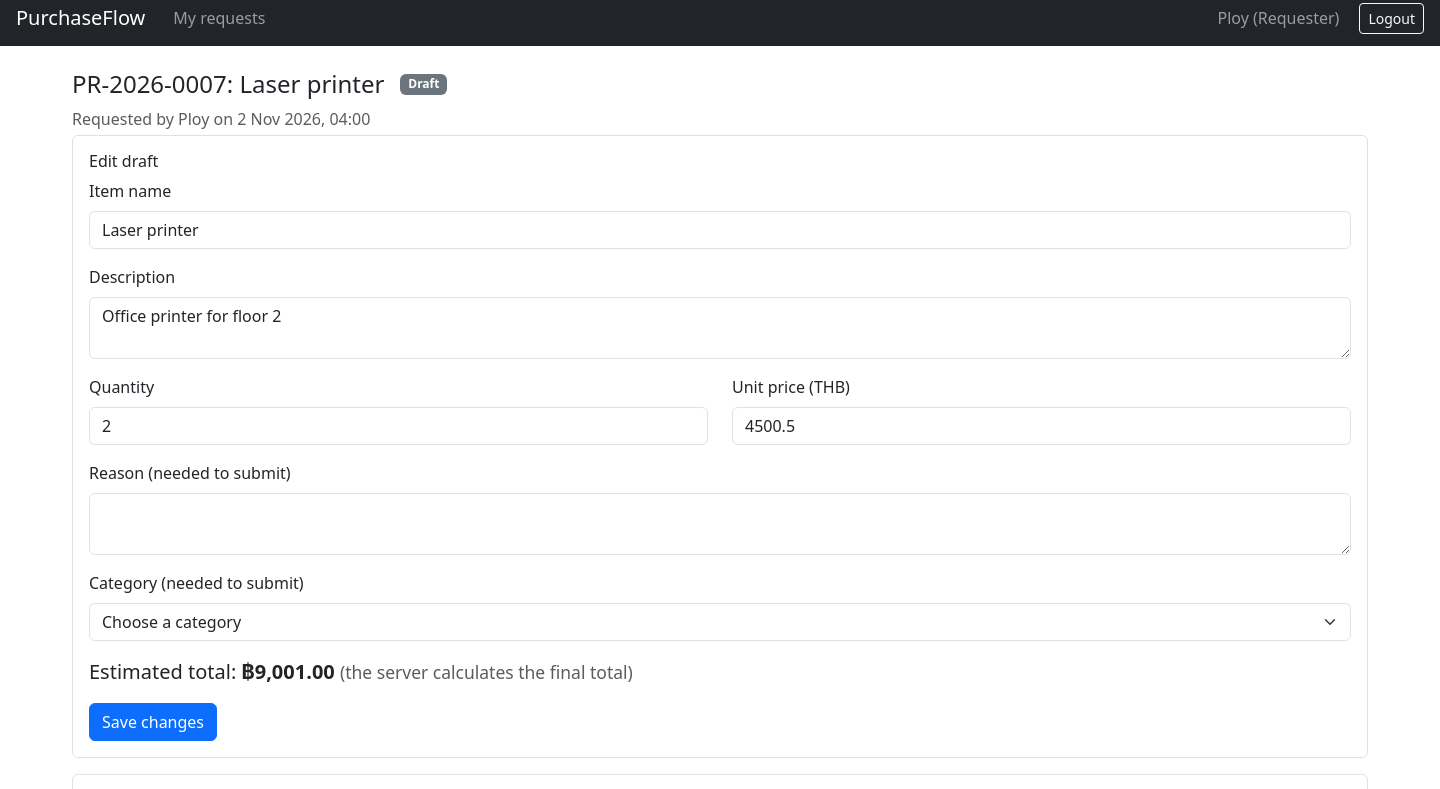
Scenario: request screens (component) › CT-09 / AC-23: the owner of a draft edits it, and an incomplete submit shows the server's missing fields
The width and height of the screenshot is (1440, 789).
Expected: the field labelled "Item name" holds "Laser printer", [89,211,1351,249]
Click the button "Save changes" at x=153, y=722, box [89,703,217,741]
(page scrolled)
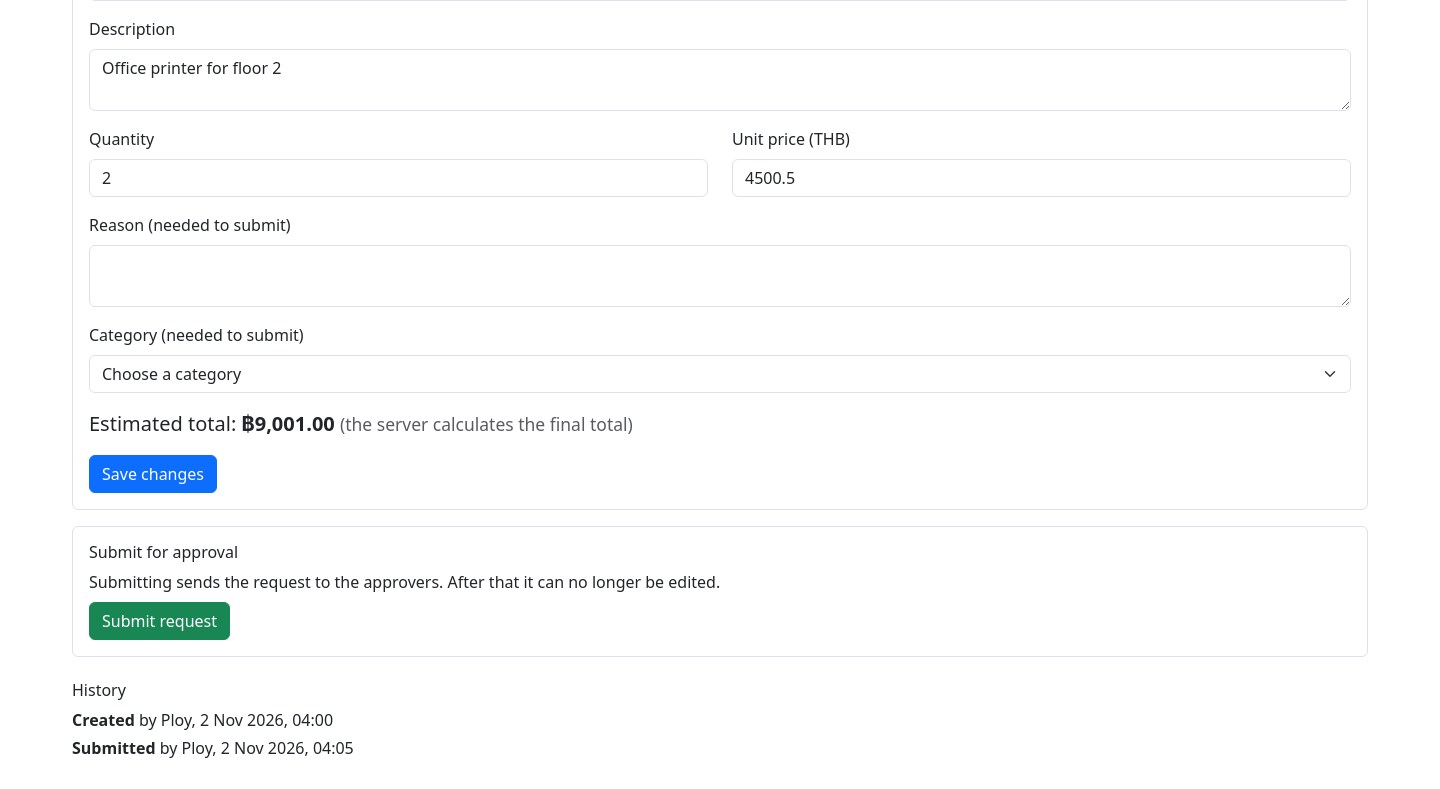
Click the button "Submit request" at x=160, y=621, box [89,602,230,640]
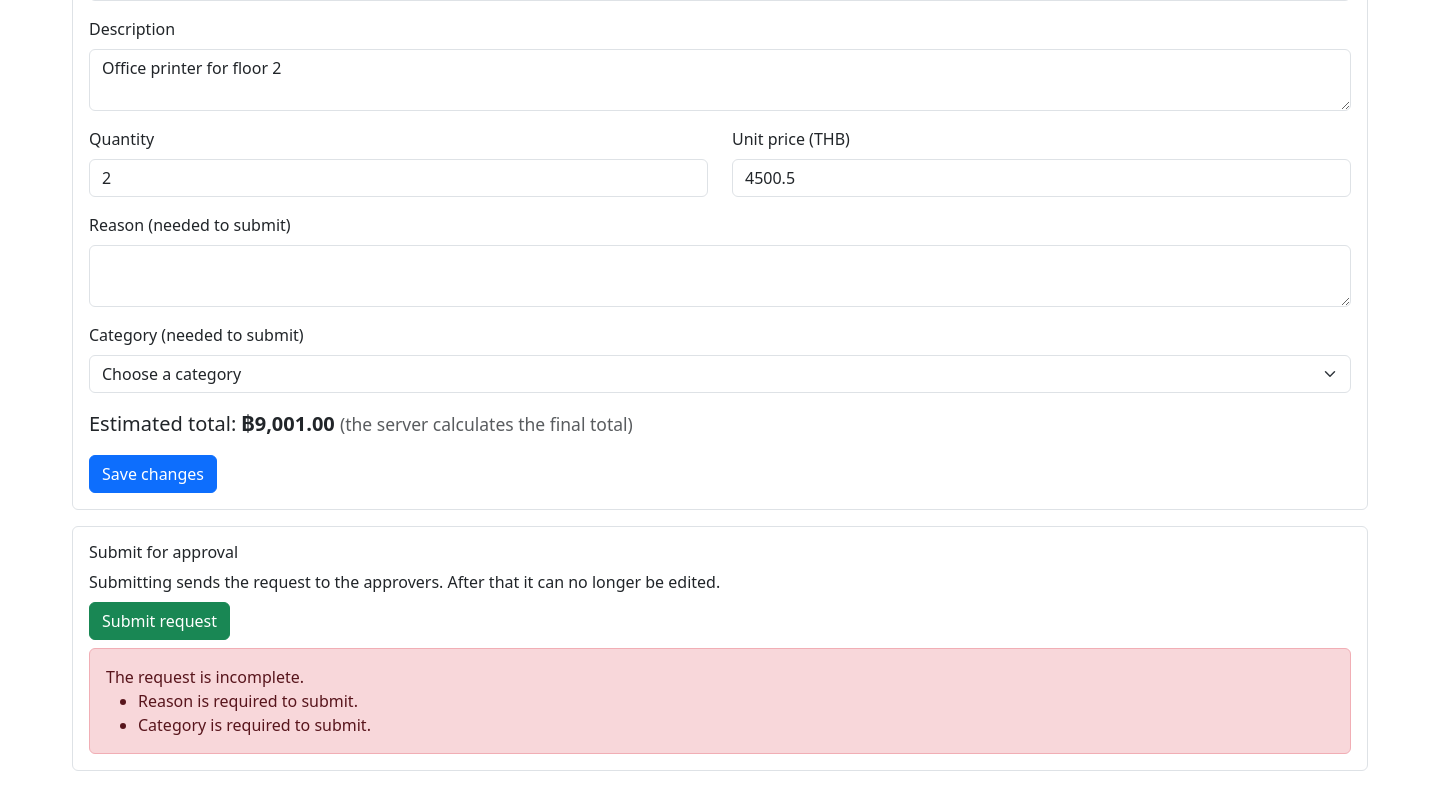
Expected: the text "The request is incomplete." is shown, [106,666,304,688]
Expected: the list item "Reason is required to submit." is shown, [138,690,358,712]
Expected: the list item "Category is required to submit." is shown, [138,714,371,736]
